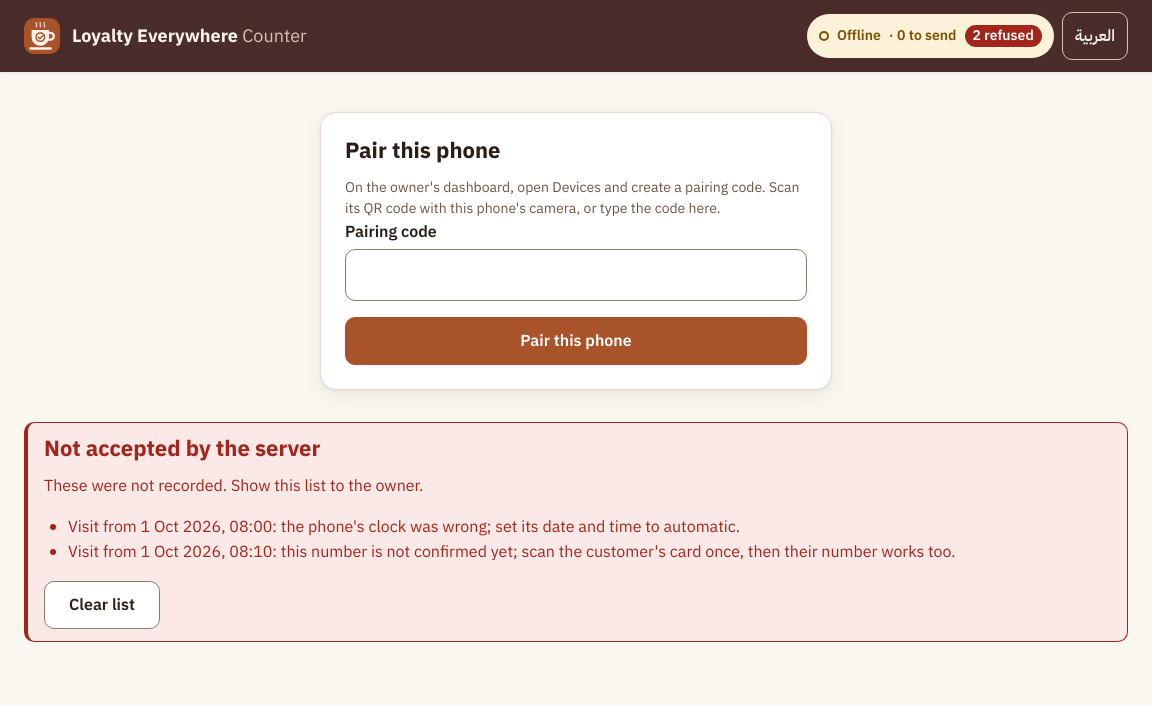
Test: Counter App › lists events the server refused until someone clears them (AC 23)
Expected: the heading "Not accepted by the server" is shown, [44, 432, 320, 465]
Expected: the 1st list item is shown, [68, 515, 740, 539]
Click the button "Clear list" at (102, 605), box [44, 581, 160, 629]
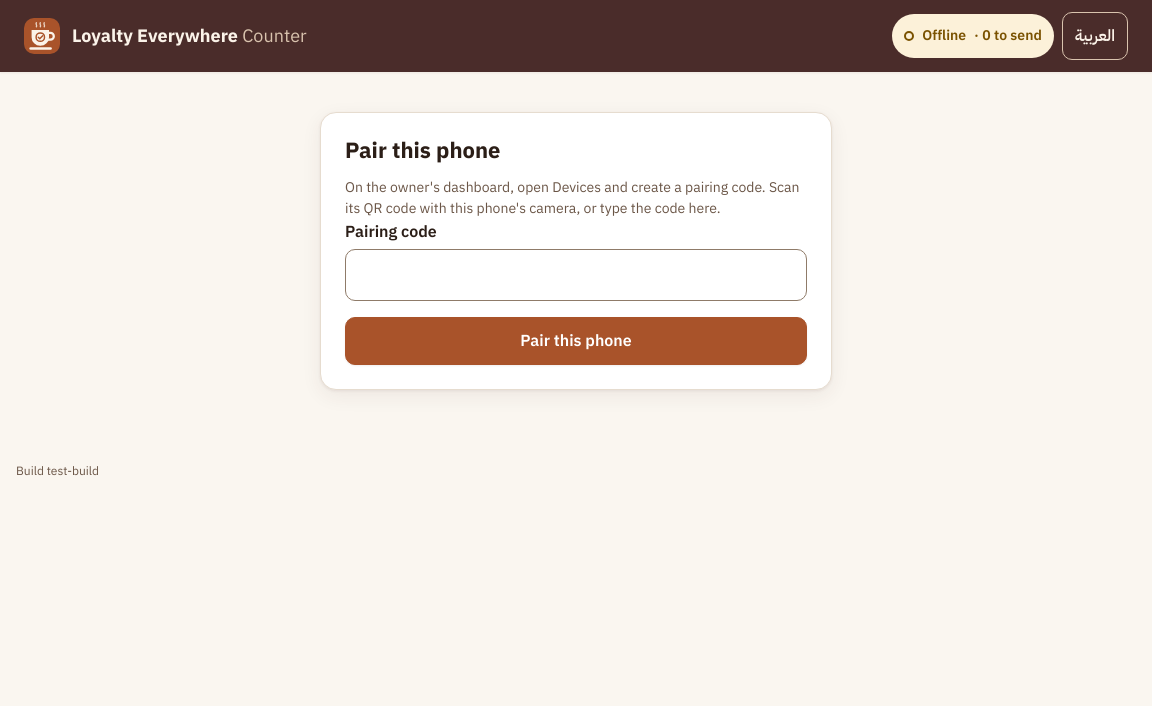
Result: the heading "Not accepted by the server" is gone
